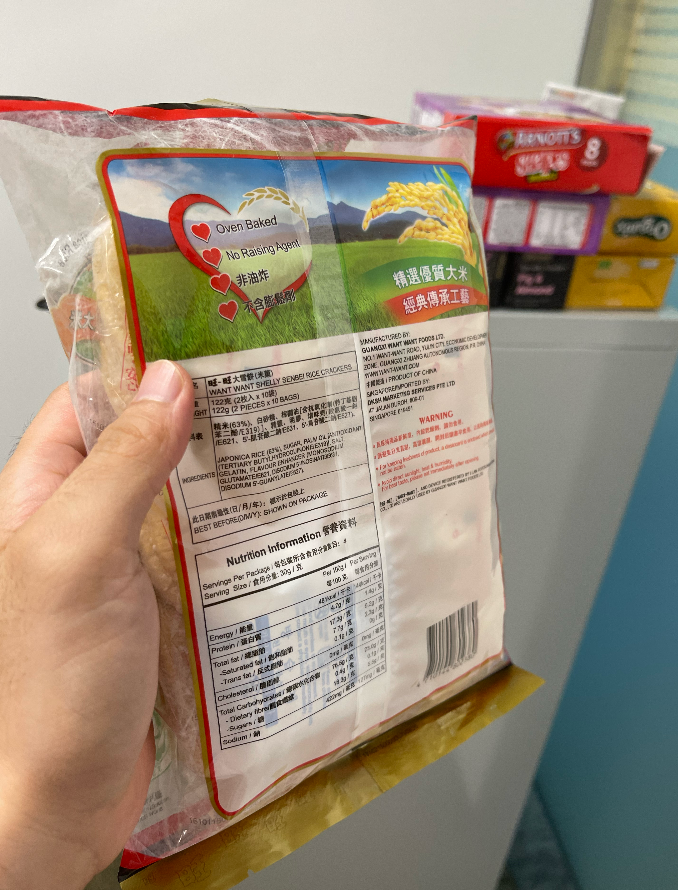crackers_100g-199g: (113, 154, 493, 755)
